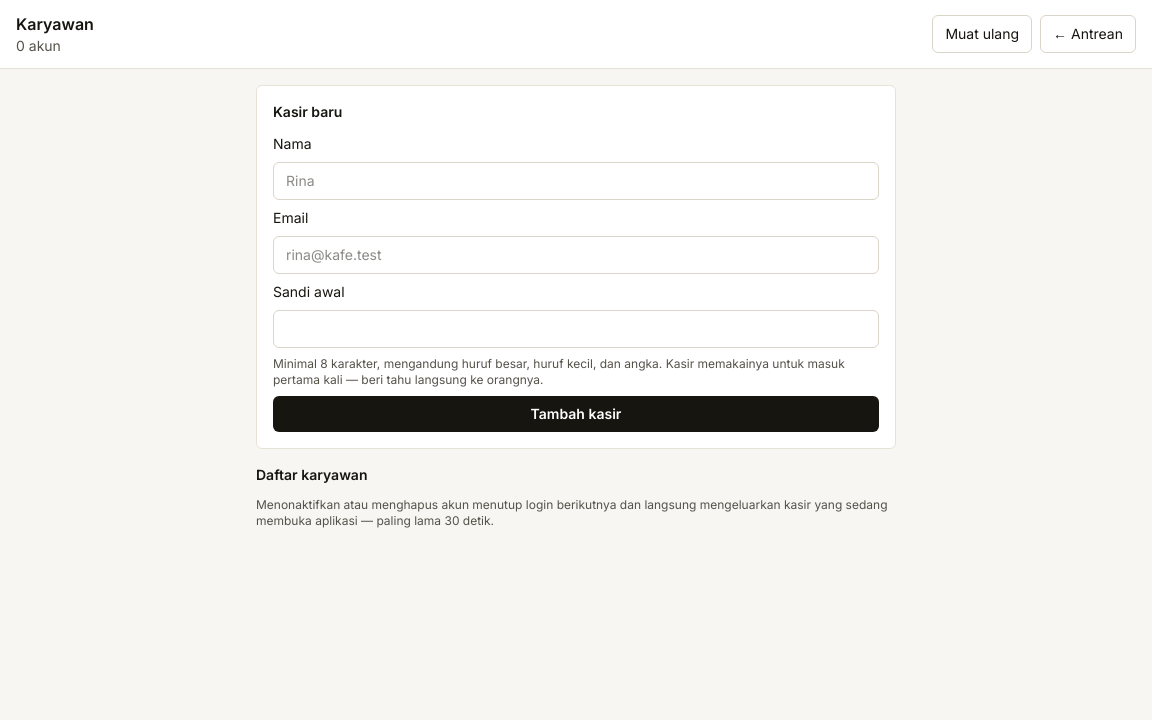
menambah kasir › pesan penolakan server ditampilkan apa adanya
The width and height of the screenshot is (1152, 720).
Type "Budi" into the field labelled "Nama".
click(576, 181); type("Budi")  # box [273,162,879,200]
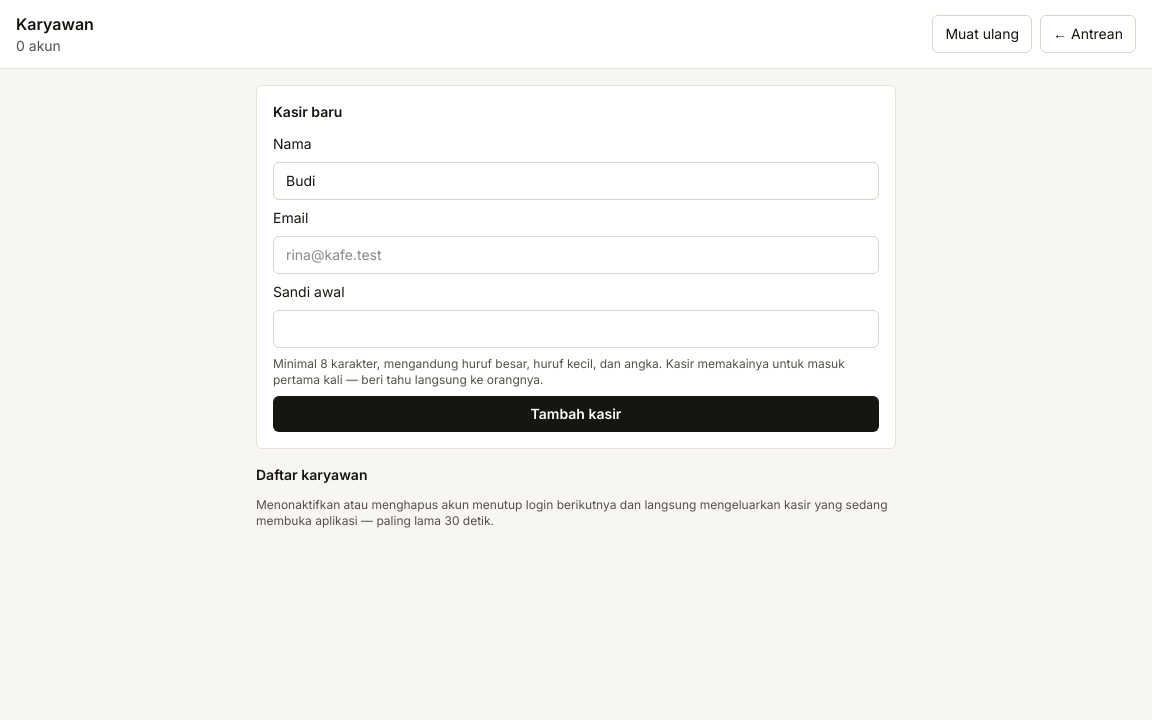
Type "budi@kafe.test" into the field labelled "Email".
click(576, 255); type("budi@kafe.test")  # box [273,236,879,274]
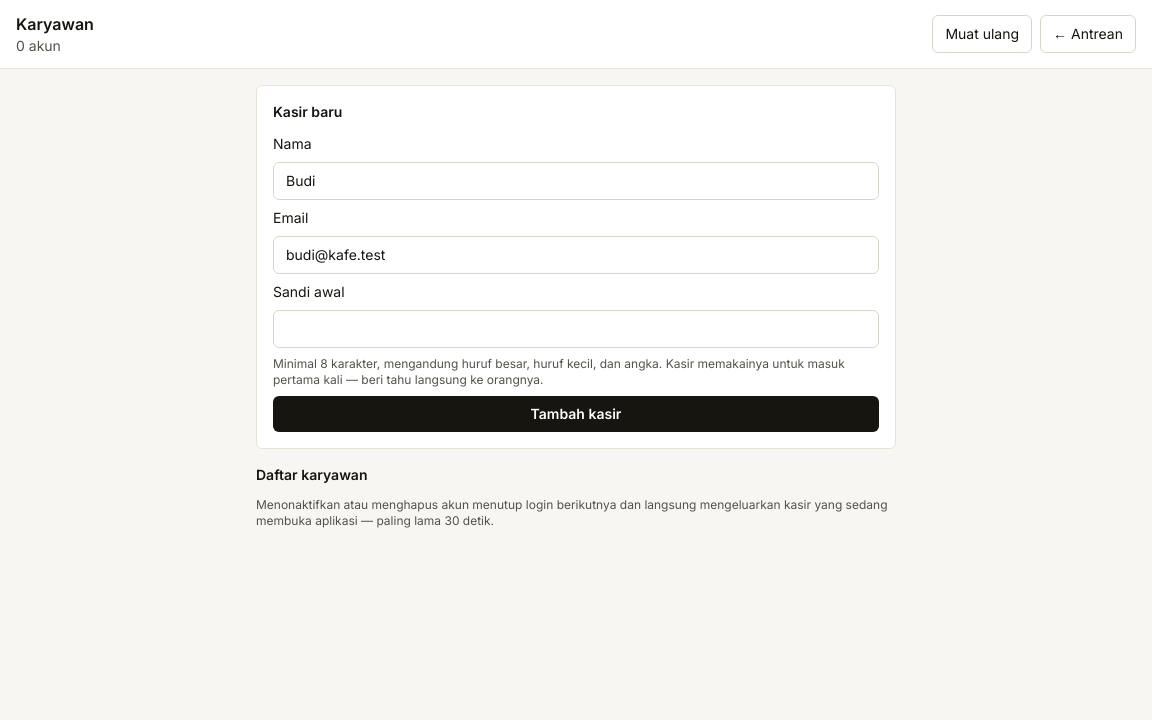
Type "Rahasia123" into the password field labelled "Sandi awal".
click(576, 329); type("Rahasia123")  # box [273,310,879,348]
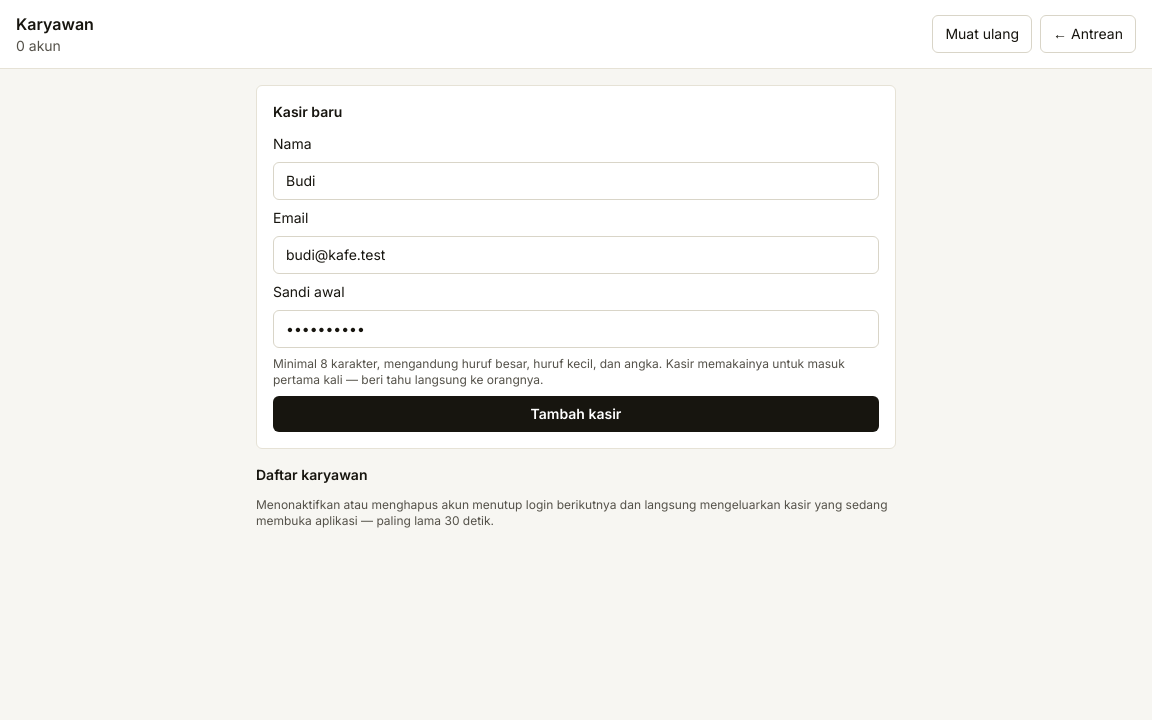
Click the button "Tambah kasir".
click(576, 414)  # box [273,396,879,432]
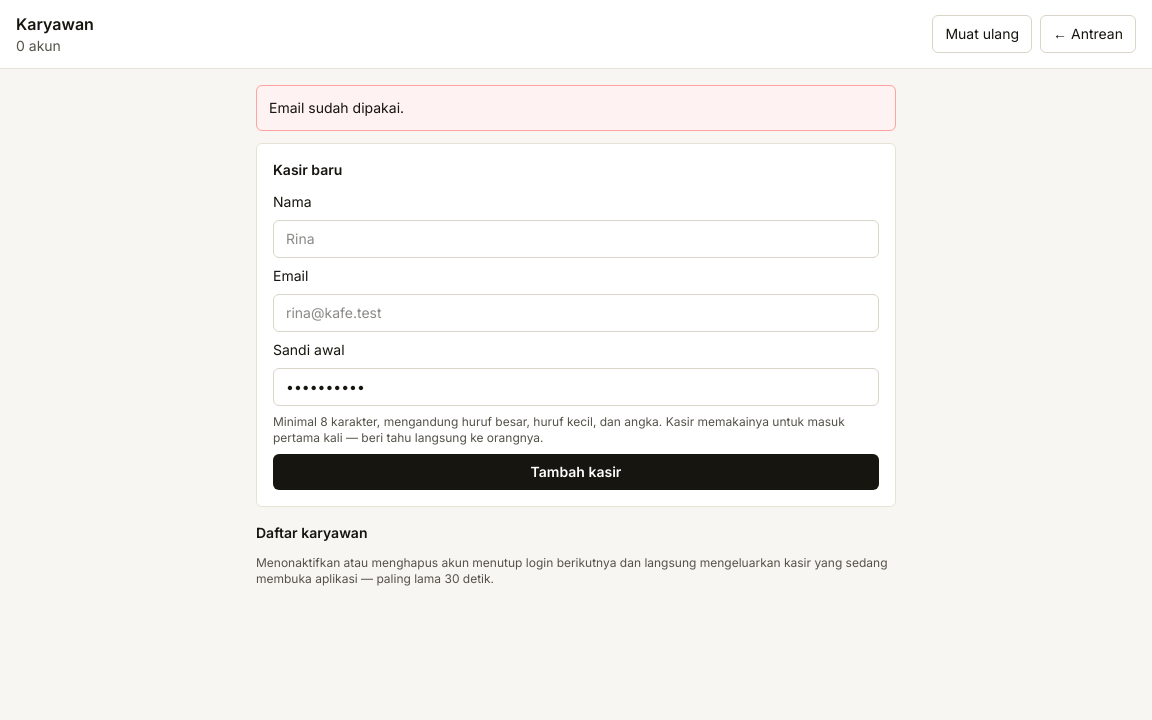
Now the message reads "Email sudah dipakai.", box [269,99,404,116]
